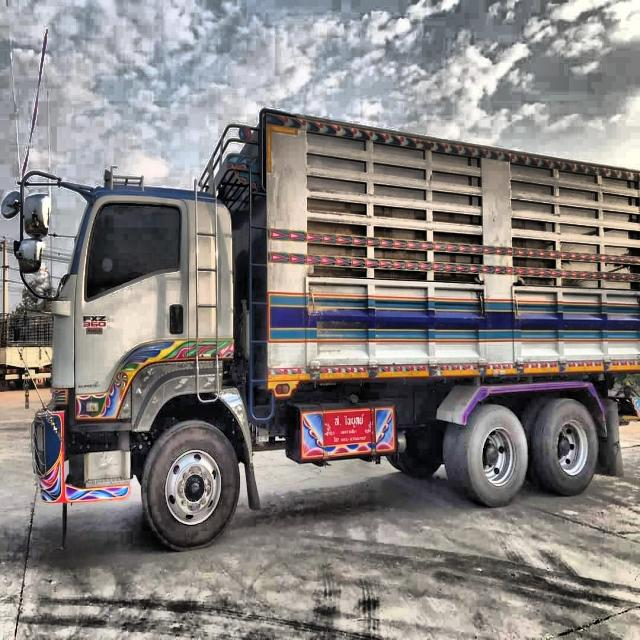trailer: (5, 106, 640, 553)
